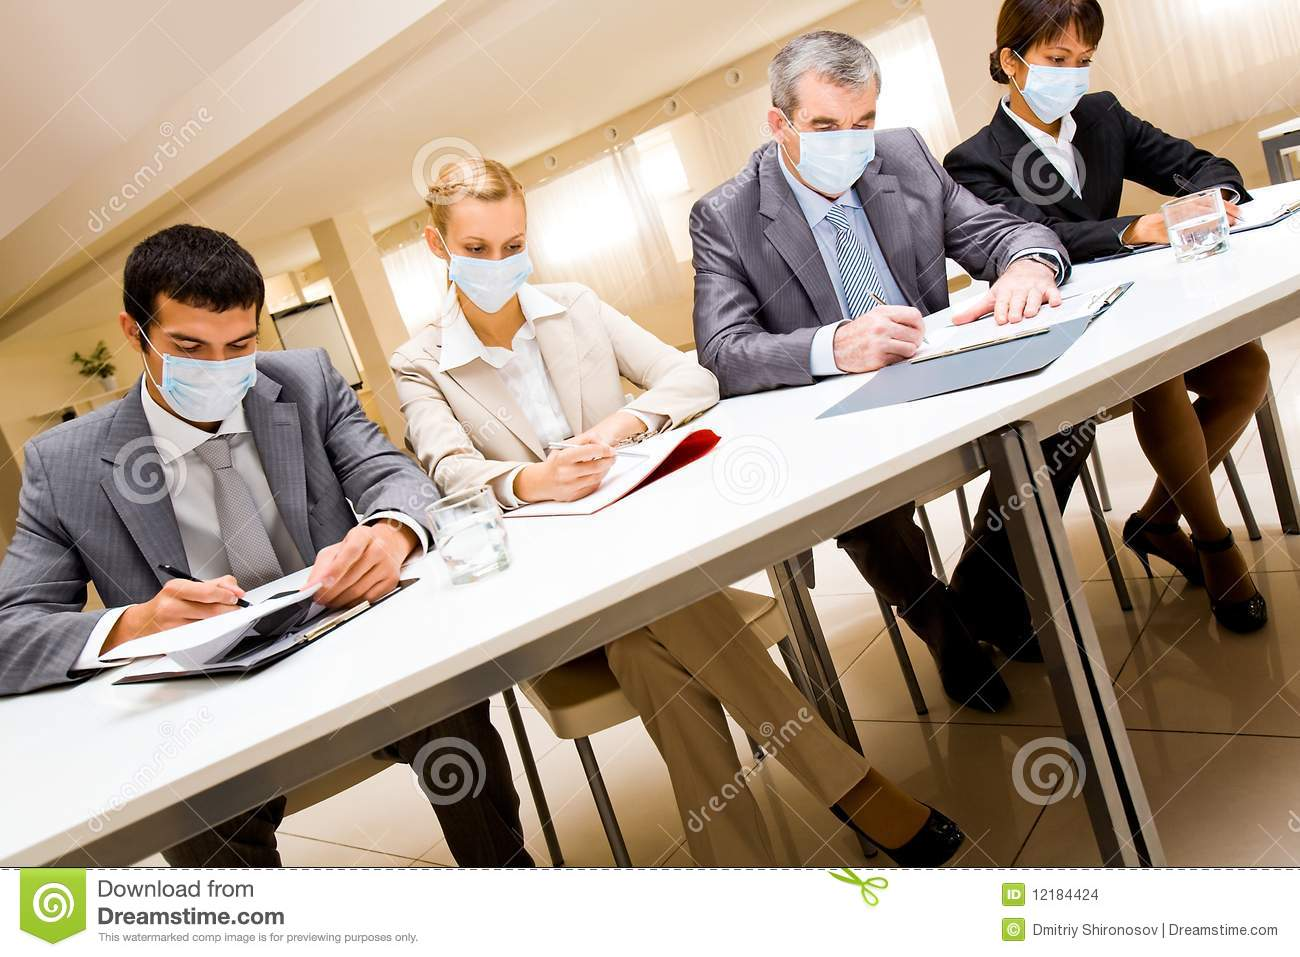mask: (159, 352, 256, 425), (449, 254, 536, 315), (798, 131, 876, 199), (1021, 59, 1091, 122)
